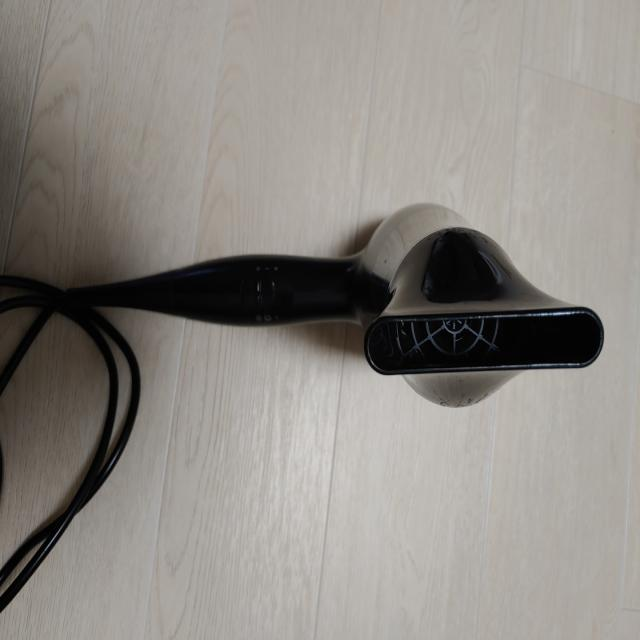dryer: (70, 199, 608, 412)
